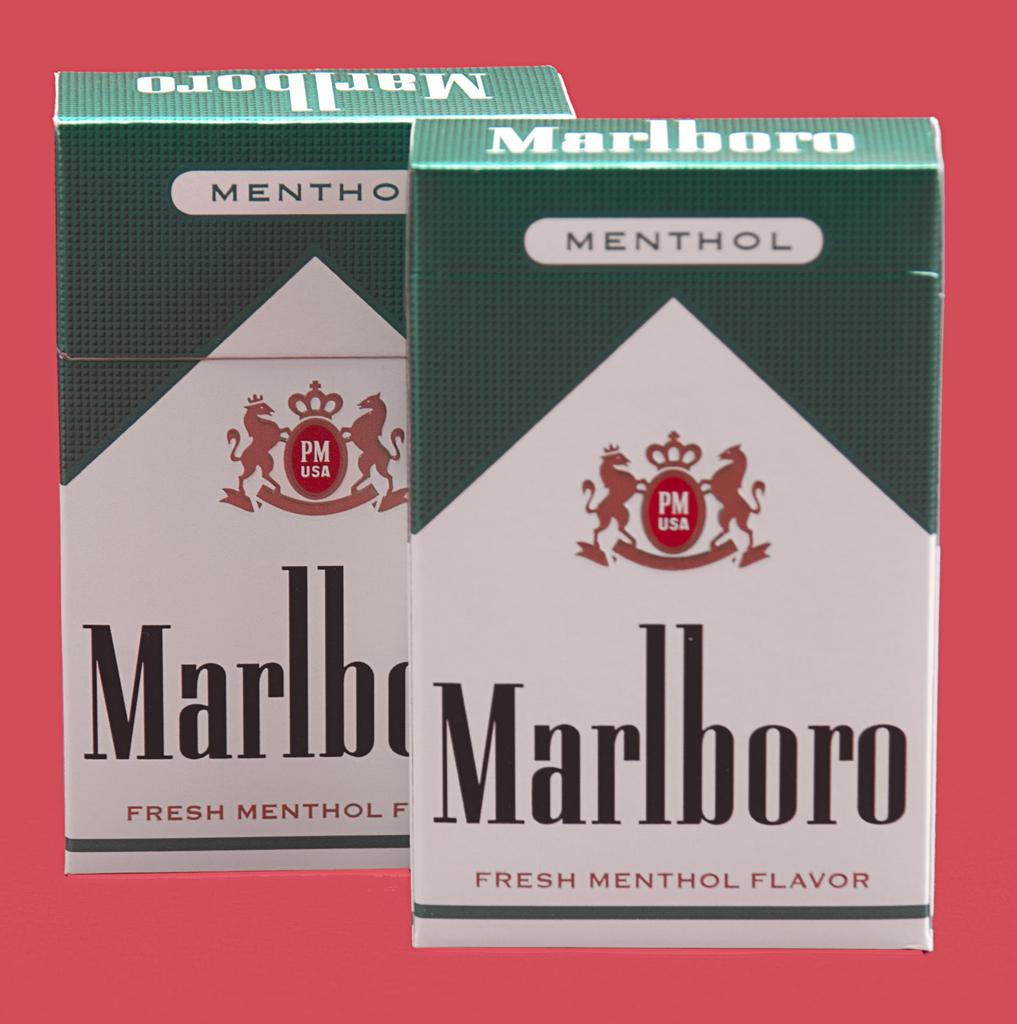marlboro_mentol: (415, 173, 932, 950), (55, 127, 412, 876)
